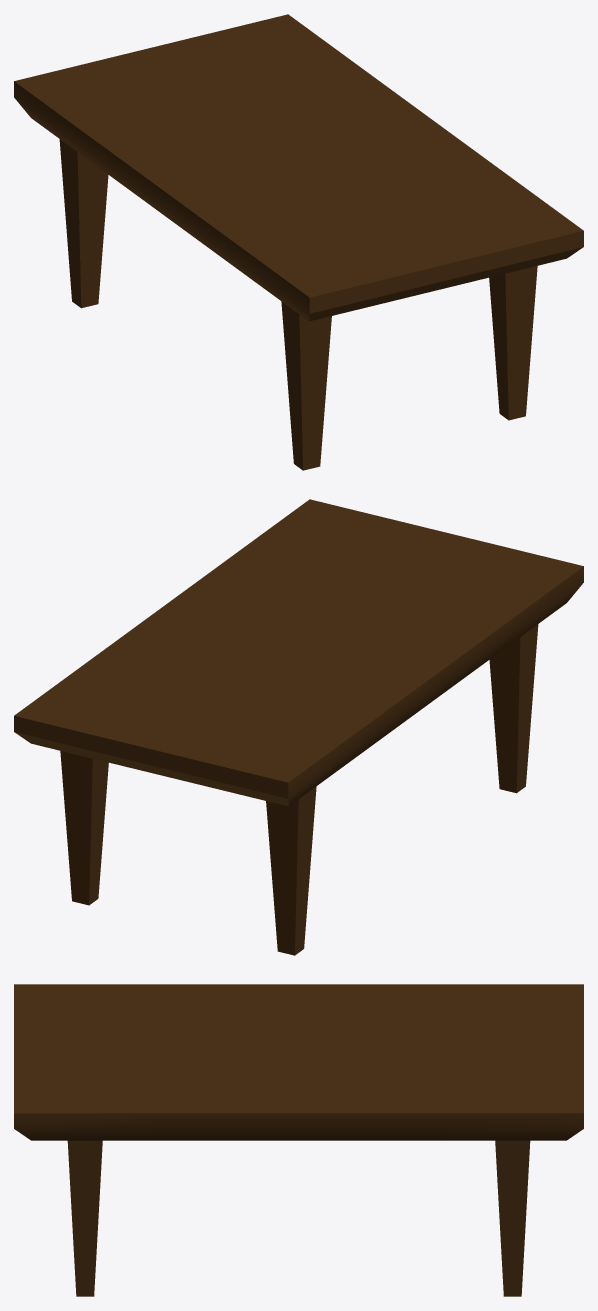
File: table (1).fbx
The picture shows the model from 3 angles, top to bottom: view 1: azimuth 30°, elevation 25°; view 2: azimuth 150°, elevation 25°; view 3: azimuth 270°, elevation 25°; orthographic projection. The views are drawn at different scales.
Visible parts, largest first — view 1: Cube; view 2: Cube; view 3: Cube.
Boxes of the visible parts, x1,y1,x2,y2 form: Cube: [14, 14, 583, 470]; Cube: [14, 499, 583, 955]; Cube: [14, 984, 583, 1296].
Size of the model in its own units: 591 by 418 by 1103.
